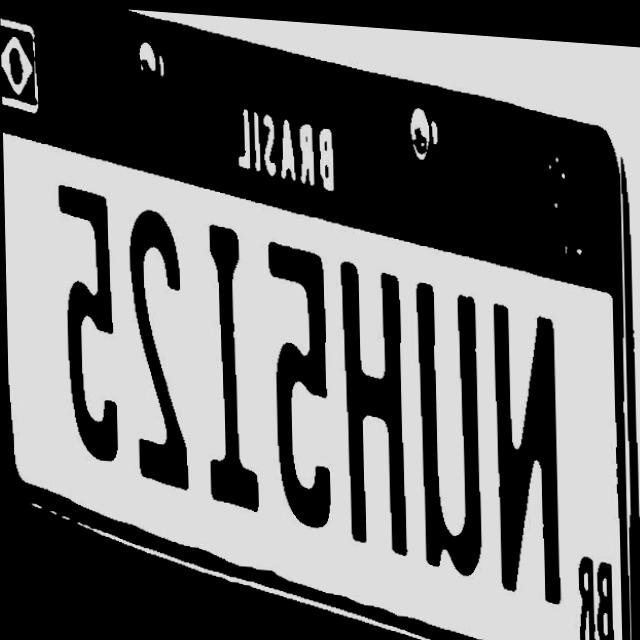2: (112, 180, 192, 476)
5: (256, 212, 332, 509), (46, 163, 115, 444)
h: (332, 236, 411, 535)
i: (190, 197, 259, 495)
n: (482, 279, 563, 598)
u: (408, 254, 487, 567)
